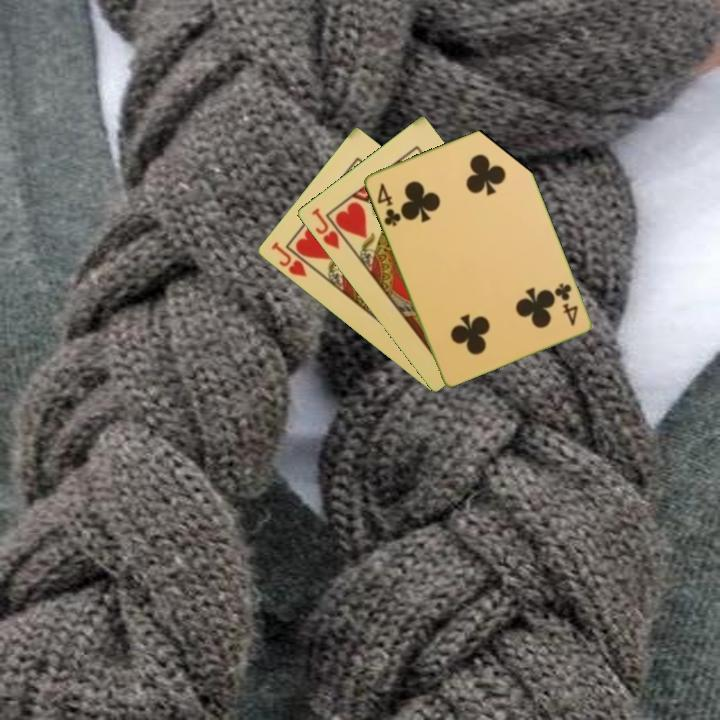4c: (373, 179, 404, 229), (550, 279, 580, 329)
Jh: (267, 238, 310, 280), (307, 204, 342, 252)
